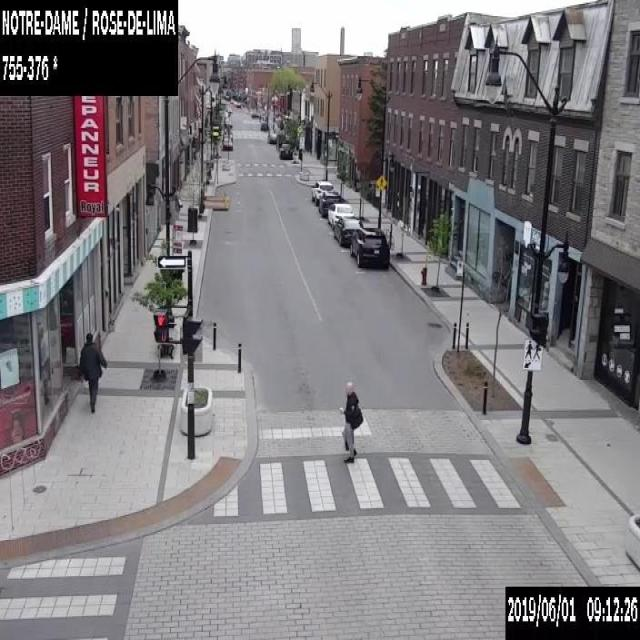pedestrian: (78, 329, 108, 415), (338, 380, 363, 462)
vehicle: (349, 226, 389, 268), (333, 216, 363, 245), (327, 203, 354, 228), (318, 190, 342, 218), (311, 180, 333, 204), (279, 143, 292, 158), (222, 138, 232, 149), (223, 116, 232, 128), (266, 132, 276, 142), (259, 120, 268, 130), (250, 111, 262, 118), (222, 130, 232, 138)
